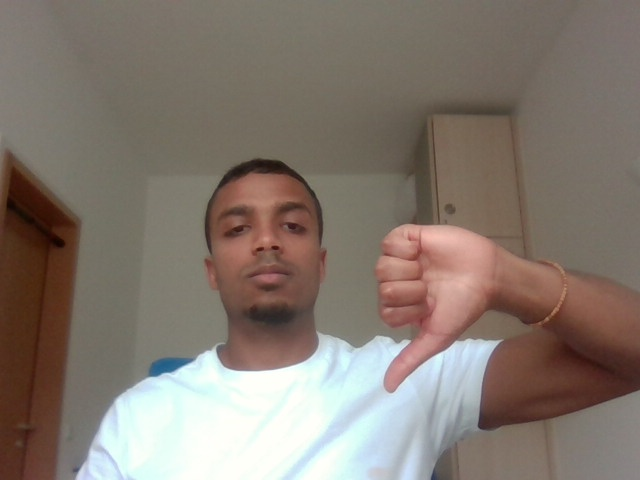no: (359, 206, 521, 404)
